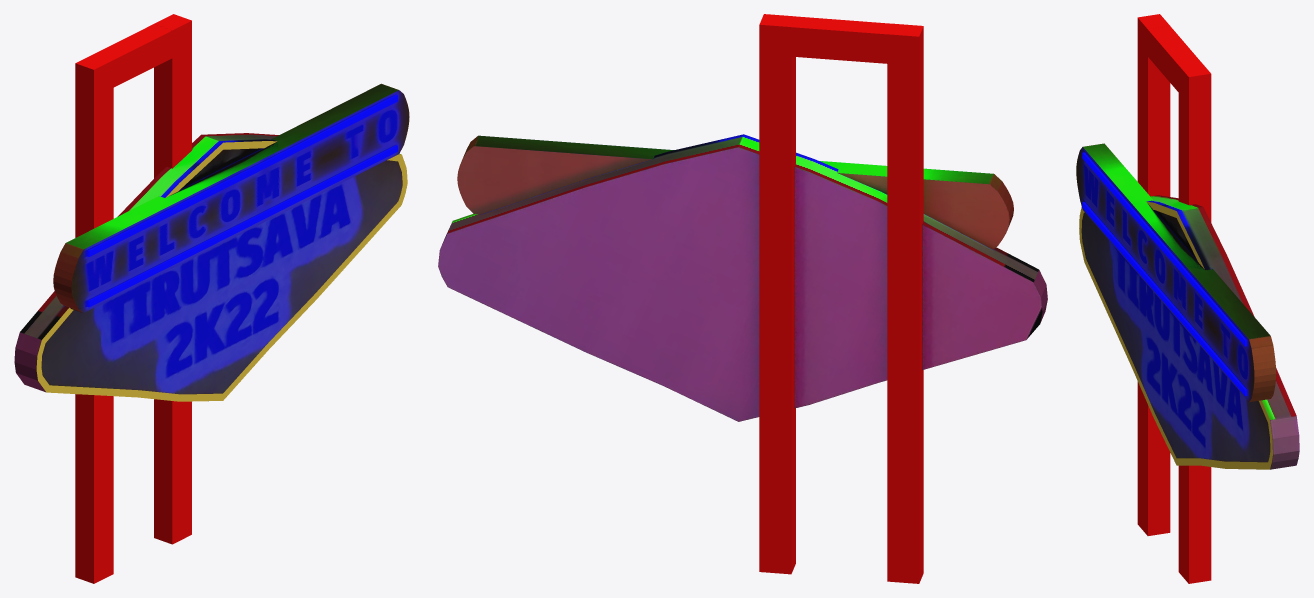
File: EntranceSign-transformed.glb
3 views of the same model, side by side, from view 1: azimuth 30°, elevation 25°; view 2: azimuth 150°, elevation 25°; view 3: azimuth 270°, elevation 25° (orthographic). The views are drawn at different scales.
Visible parts, largest first — view 1: Cube.467, Cube.056, Cube.468, Cube.469, Cube.470, Cube.058, Cube.057; view 2: Cube.467, Cube.468, Cube.469, Cube.056, Cube.470; view 3: Cube.467, Cube.056, Cube.468, Cube.469, Cube.470, Cube.057, Cube.058.
Part boxes in pixels (x1=…): Cube.467: x1=14, y1=133, x2=407, y2=401; Cube.056: x1=53, y1=83, x2=409, y2=313; Cube.468: x1=75, y1=53, x2=113, y2=583; Cube.469: x1=154, y1=14, x2=191, y2=544; Cube.470: x1=95, y1=24, x2=172, y2=87; Cube.058: x1=87, y1=145, x2=397, y2=307; Cube.057: x1=87, y1=94, x2=397, y2=256; Cube.467: x1=438, y1=134, x2=1047, y2=421; Cube.468: x1=887, y1=23, x2=923, y2=583; Cube.469: x1=759, y1=14, x2=795, y2=574; Cube.056: x1=457, y1=135, x2=1013, y2=249; Cube.470: x1=791, y1=16, x2=891, y2=63; Cube.467: x1=1079, y1=195, x2=1299, y2=469; Cube.056: x1=1076, y1=143, x2=1276, y2=402; Cube.468: x1=1137, y1=14, x2=1170, y2=535; Cube.469: x1=1178, y1=61, x2=1211, y2=583; Cube.470: x1=1148, y1=26, x2=1200, y2=91; Cube.057: x1=1082, y1=152, x2=1247, y2=346; Cube.058: x1=1082, y1=202, x2=1247, y2=396.
Bounding box in the file's own units: 265 × 272 × 109.
Materials: 5 (2 with a texture image).
